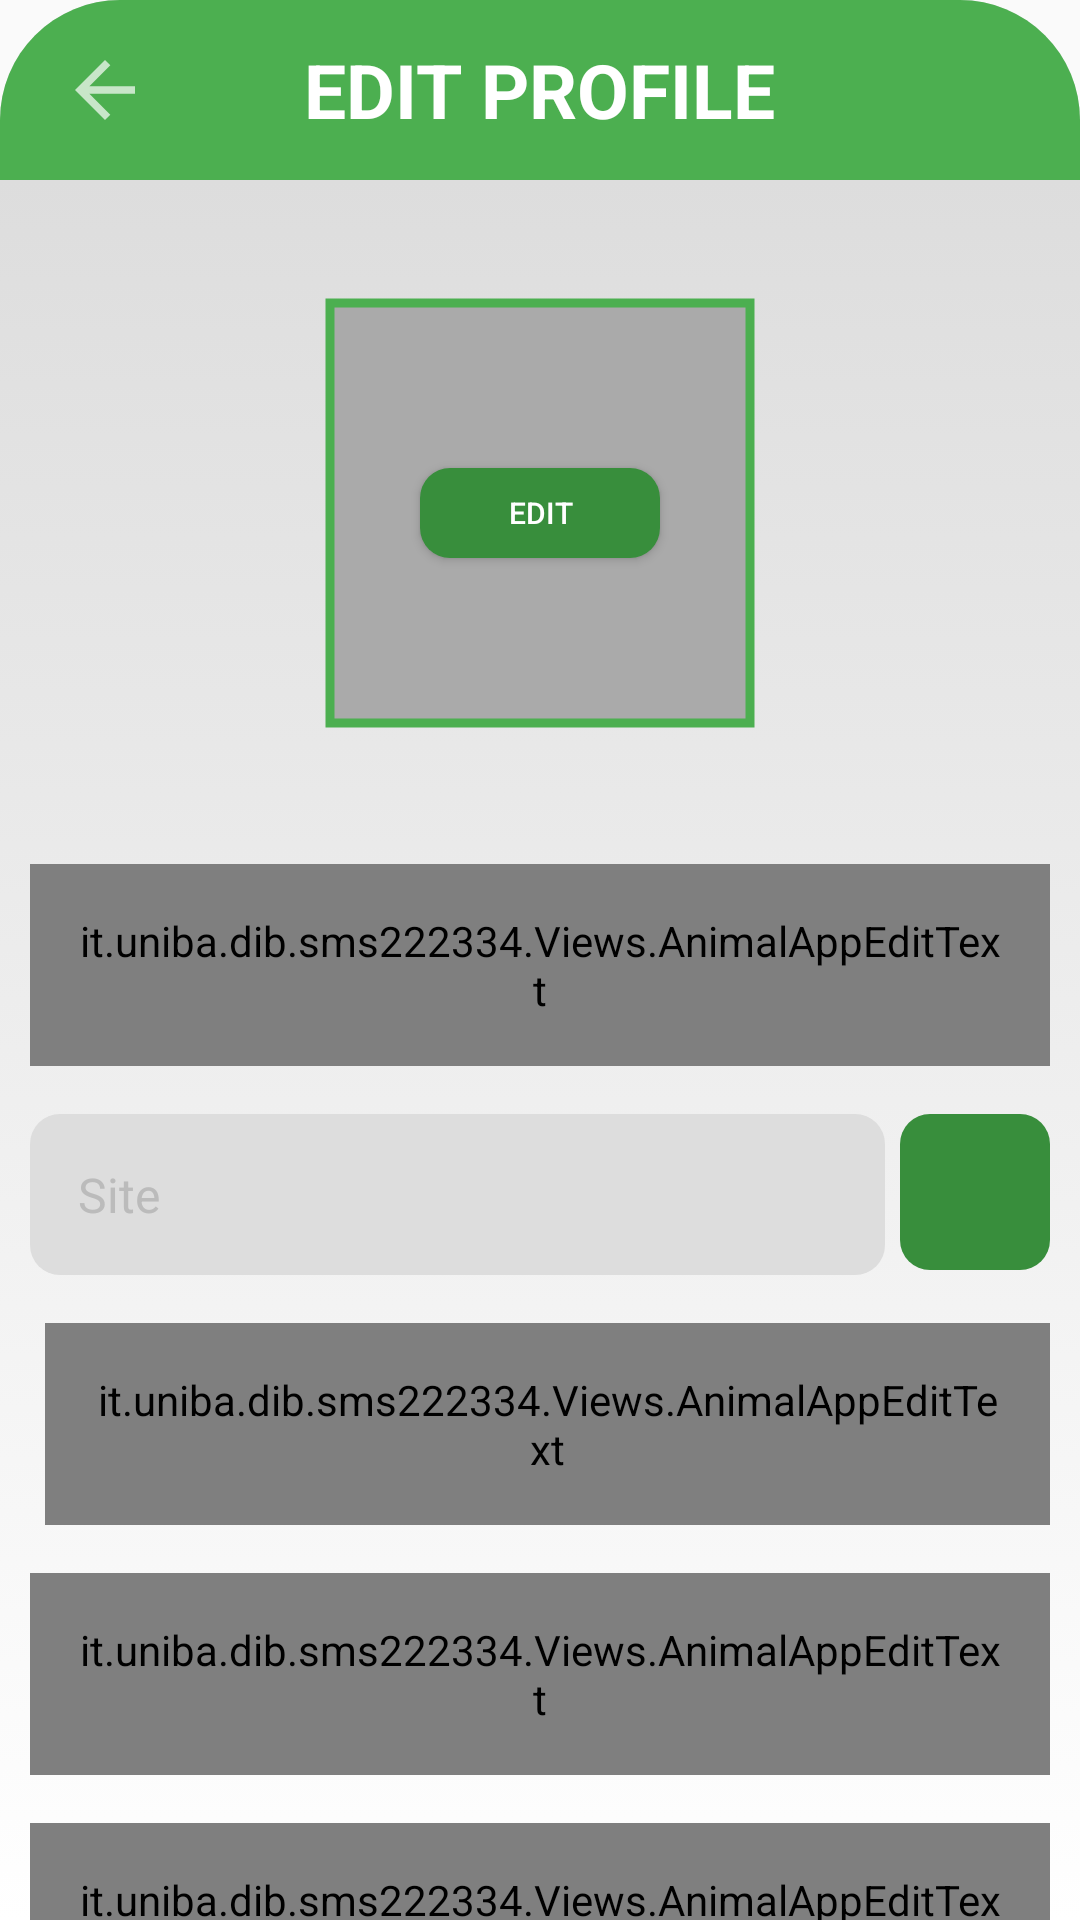

Icon click points for this 1080px x 1920px phone screenshot, format (x=x, y=y):
arrow back: (x=105, y=90)
